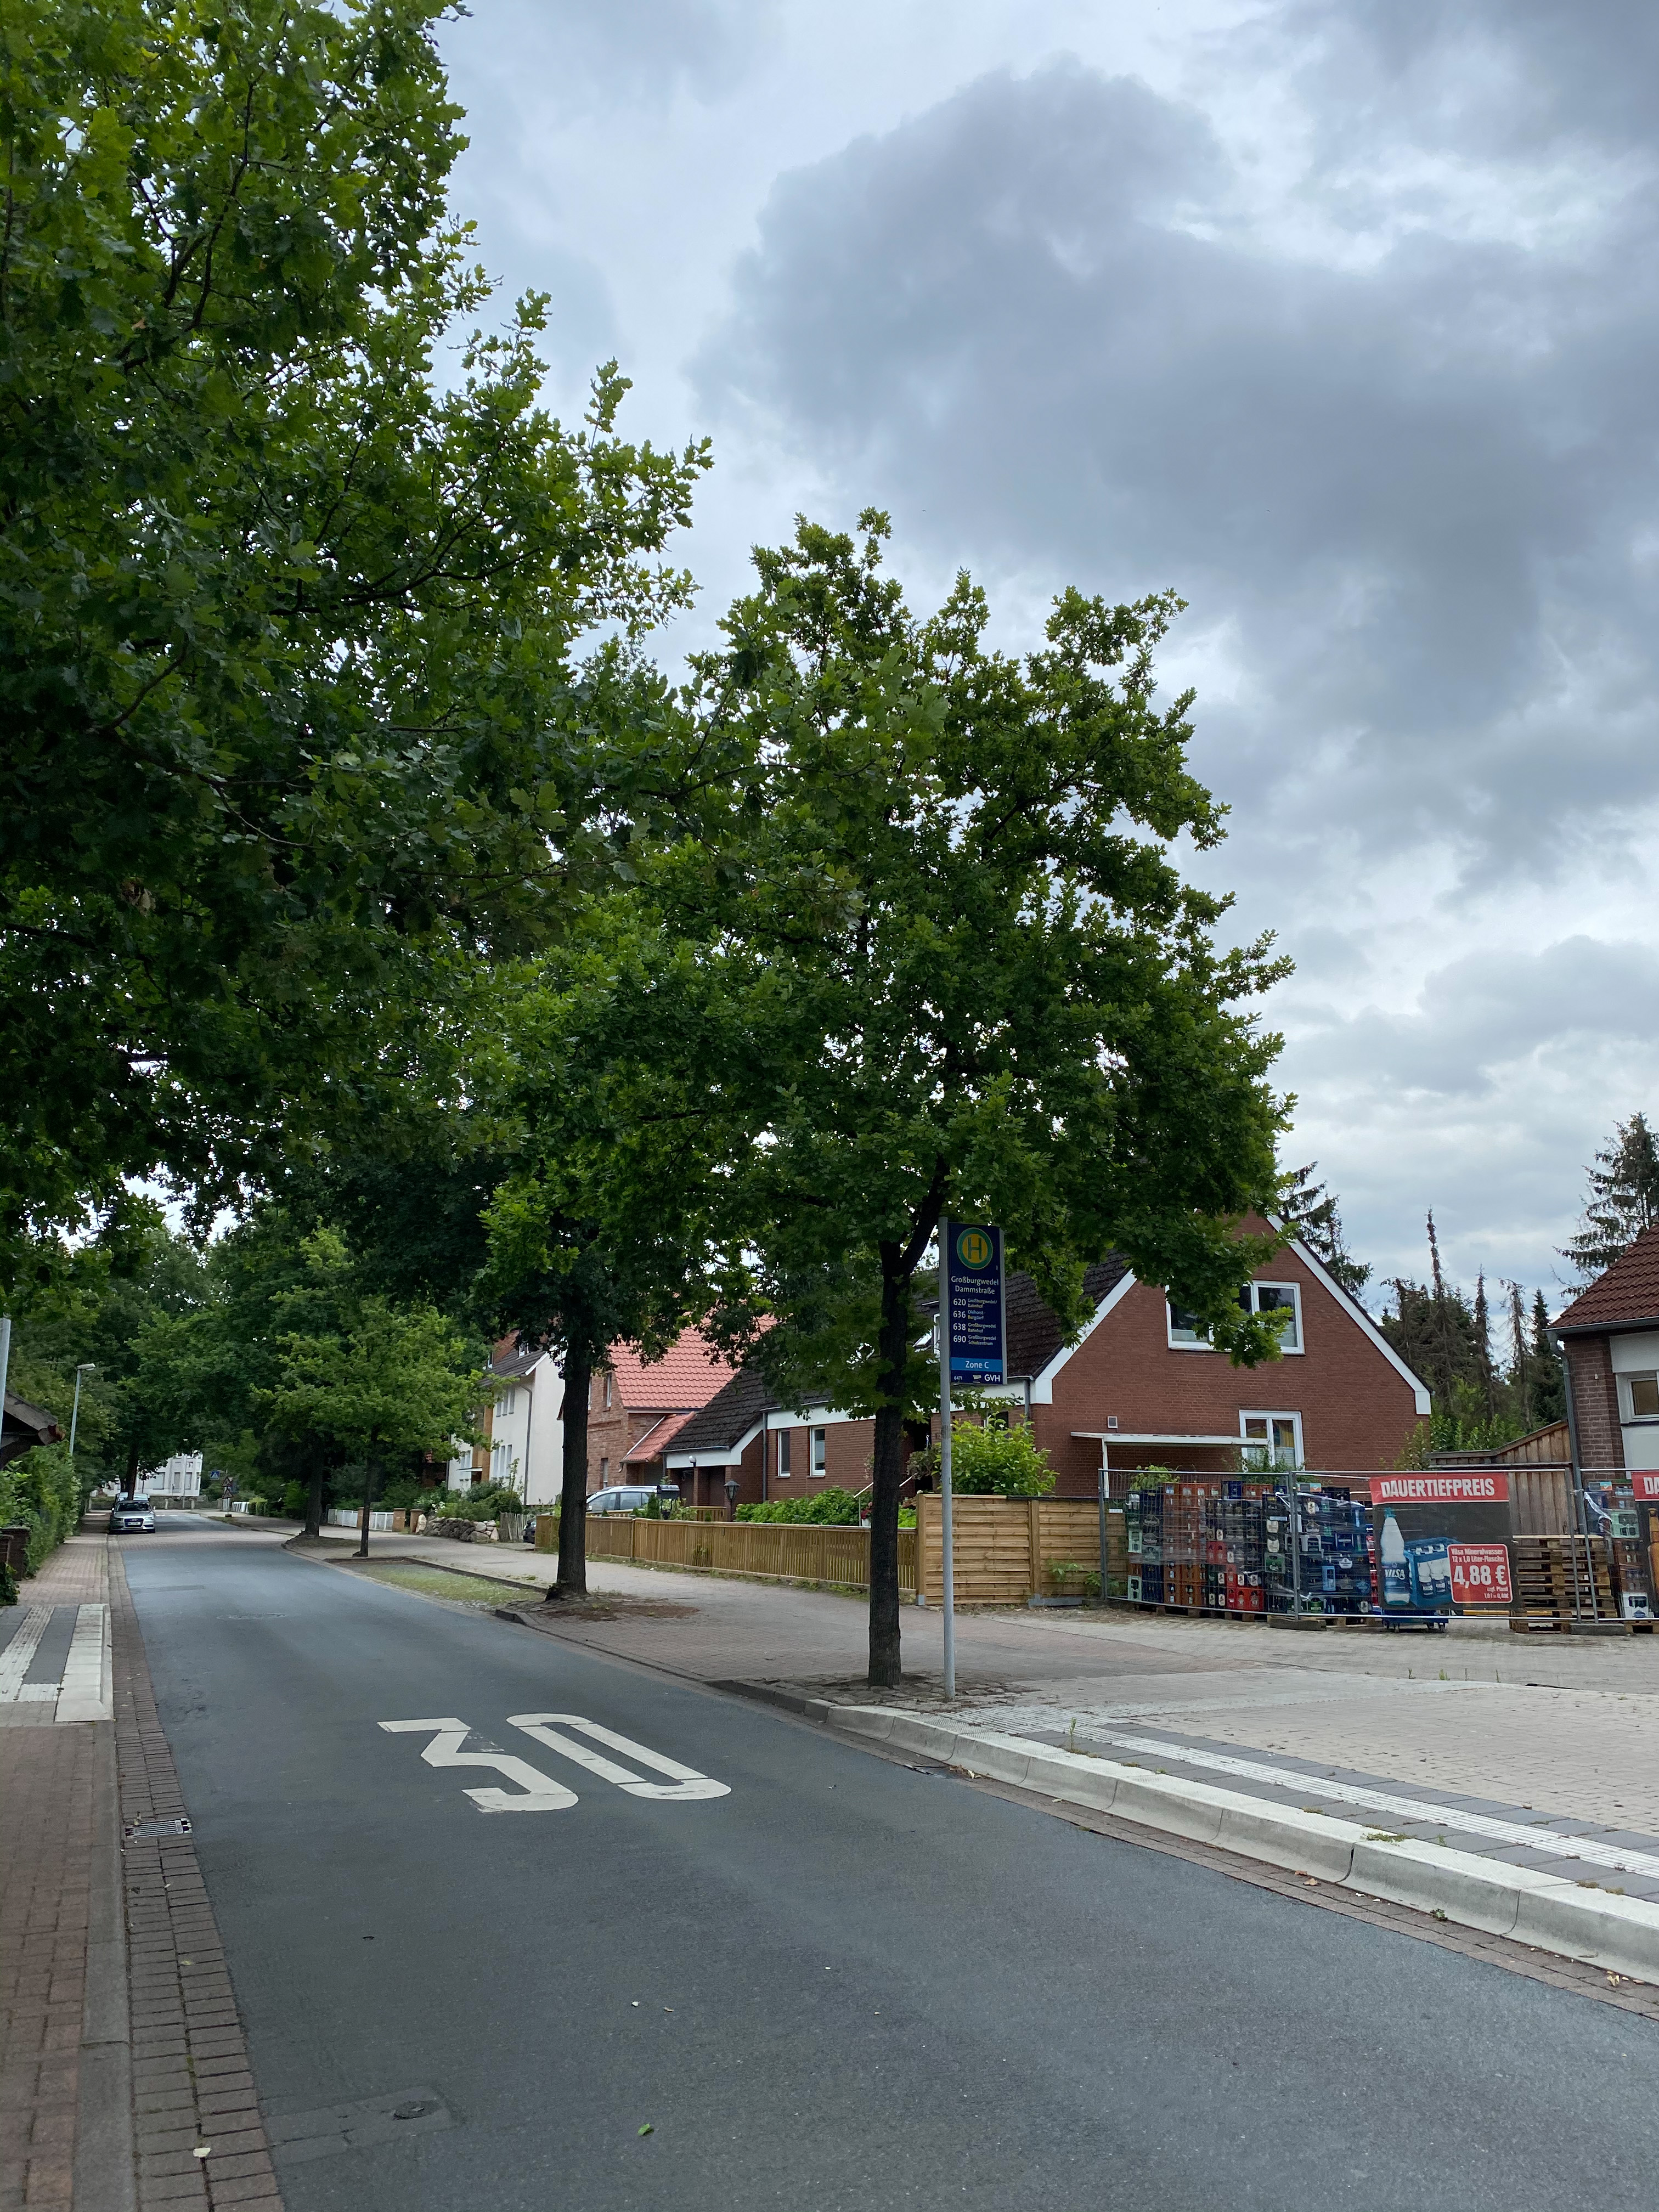tree: (0, 0, 950, 1318), (436, 503, 1340, 1689), (436, 881, 770, 1599), (249, 1312, 519, 1559), (78, 1230, 247, 1500), (265, 1224, 397, 1533), (1549, 1109, 1659, 1310), (1424, 1204, 1467, 1420), (1319, 1188, 1375, 1315), (1497, 1277, 1537, 1433), (1527, 1287, 1567, 1425), (1377, 1275, 1431, 1371), (1467, 1264, 1499, 1414)
